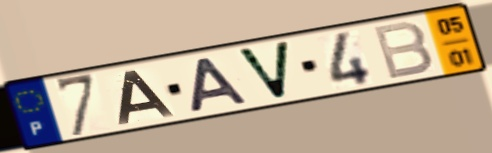4: (327, 28, 374, 88)
7: (54, 71, 101, 139)
A: (188, 55, 252, 115), (116, 69, 179, 127)
B: (369, 19, 436, 82)
V: (232, 39, 293, 102)
